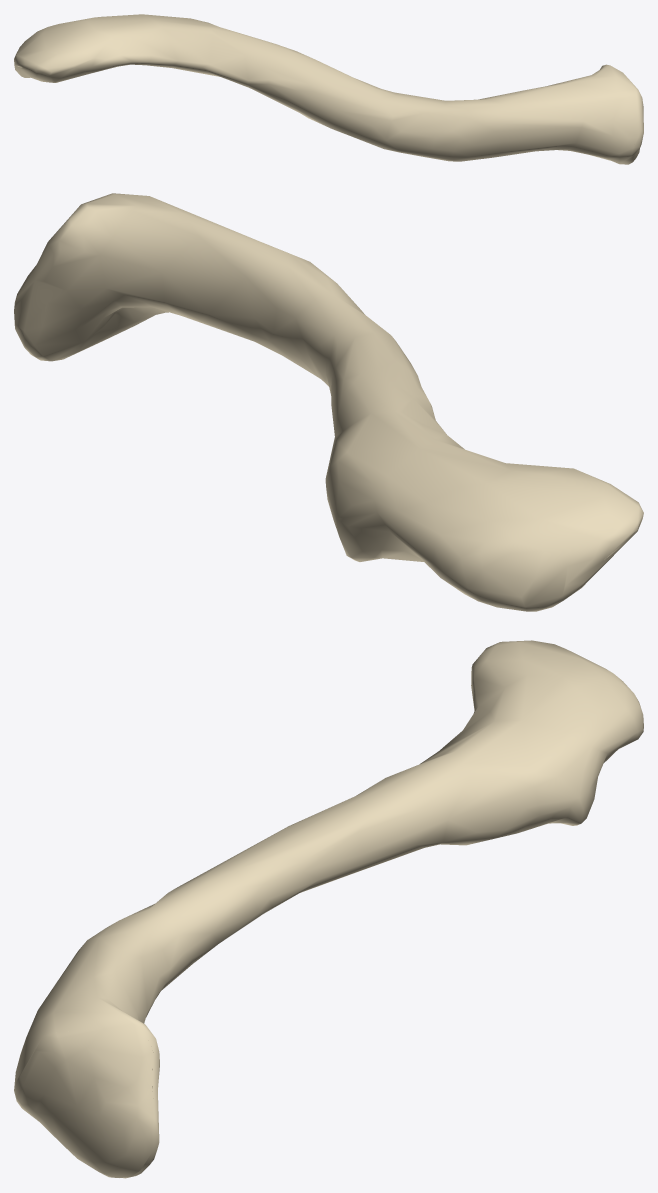
Rendered from esqueleto-clavicle-r.glb.
3 renders of one model, top to bottom at view 1: azimuth 30°, elevation 25°; view 2: azimuth 150°, elevation 25°; view 3: azimuth 270°, elevation 25°, orthographic. The views are drawn at different scales.
Visible parts, largest first — view 1: Clavicle.r; view 2: Clavicle.r; view 3: Clavicle.r.
Part boxes in pixels (box(x1,y1,x2,y2)): Clavicle.r: box(14, 14, 643, 164); Clavicle.r: box(14, 193, 643, 611); Clavicle.r: box(14, 640, 643, 1178).
Bounding box in the file's own units: 0.1431 × 0.0361 × 0.1028.
